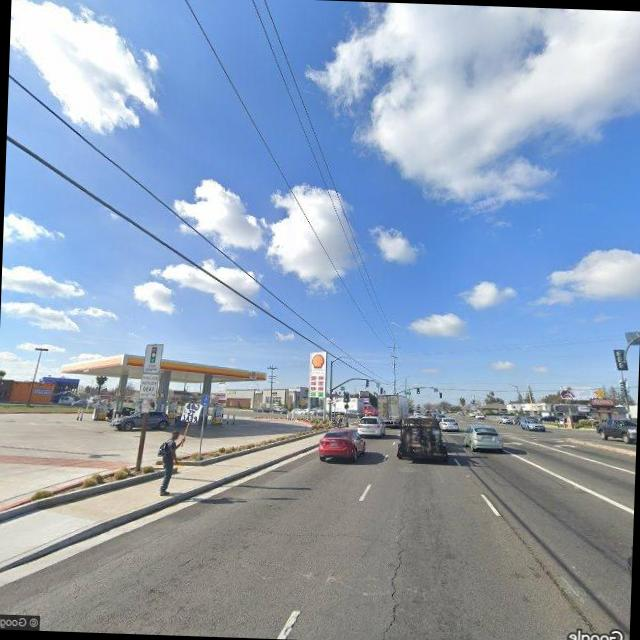pothole: (378, 522, 415, 640)
